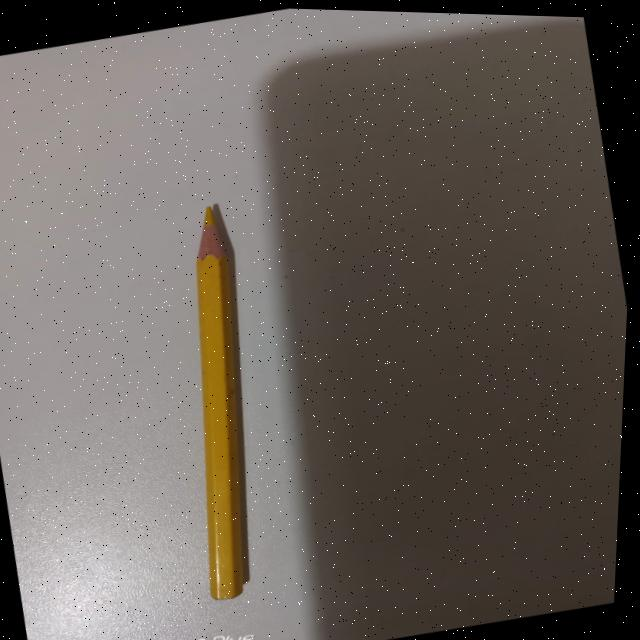pencil: (131, 193, 314, 612)
